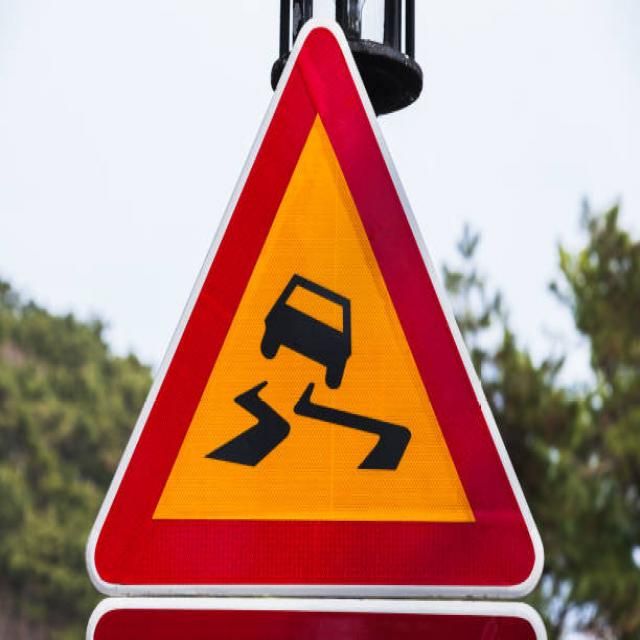road_slippery: (78, 17, 544, 602)
